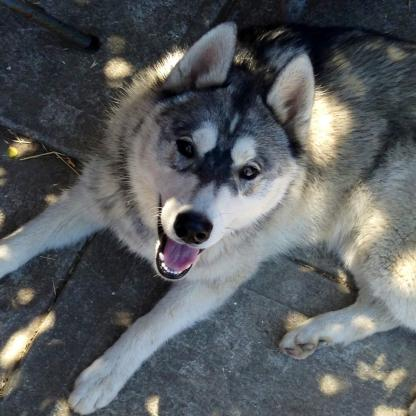husky: (1, 14, 416, 416)
